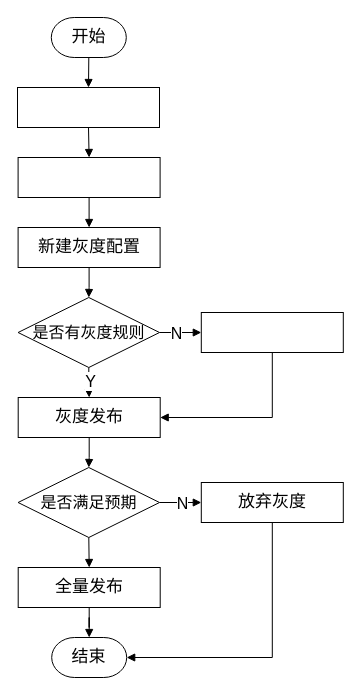
Image size: 361x695. Some labels were removed from this diagram. The box of each missing label's shape, as (x1, y1, x2, y2) in pixels:
创建灰度版本: (17, 156, 160, 198)
创建灰度规则: (200, 312, 343, 352)
选择配置文件: (16, 86, 160, 128)
